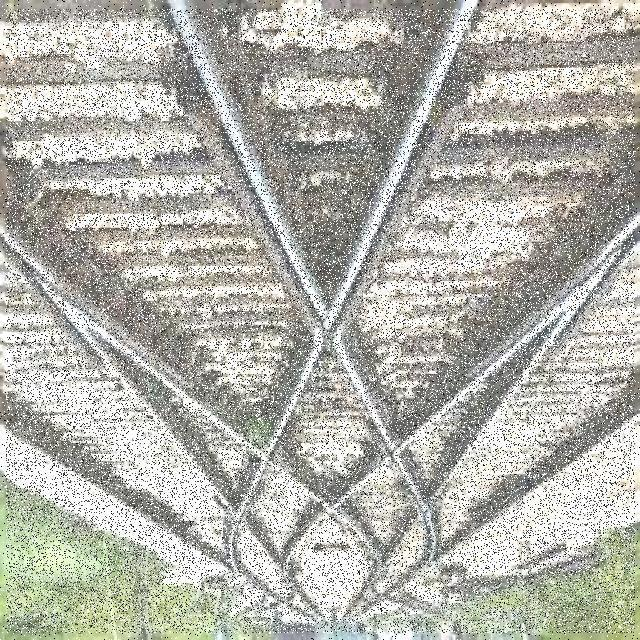rail: (7, 10, 636, 634)
